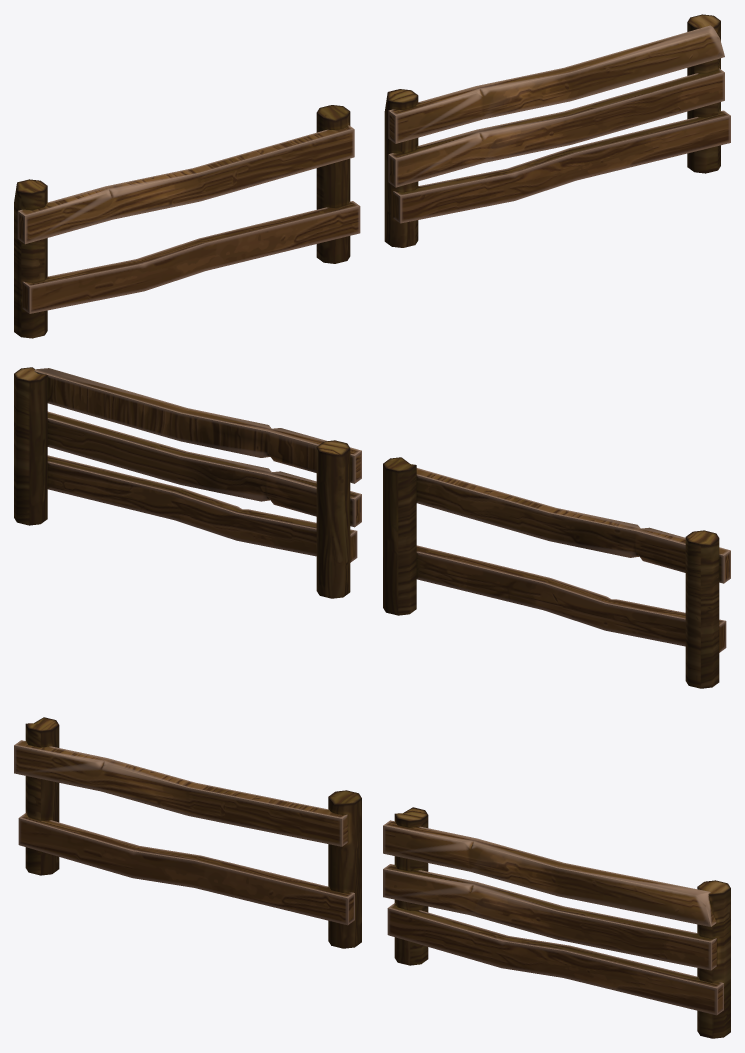
Rendered from Fence.fbx.
3 renders of one model, top to bottom at view 1: azimuth 30°, elevation 25°; view 2: azimuth 150°, elevation 25°; view 3: azimuth 330°, elevation 25°, orthographic.
Parts seen in each view (by area): view 1: Cube.023, Cube.006; view 2: Cube.023, Cube.006; view 3: Cube.023, Cube.006.
Part boxes in pixels (x1=…): Cube.023: x1=384, y1=14, x2=730, y2=247; Cube.006: x1=14, y1=105, x2=360, y2=338; Cube.023: x1=14, y1=367, x2=361, y2=598; Cube.006: x1=383, y1=457, x2=730, y2=688; Cube.023: x1=383, y1=807, x2=730, y2=1038; Cube.006: x1=14, y1=717, x2=361, y2=948.
Bounding box in the file's own units: 717 × 141 × 34.76.
Materials: 1 (1 with a texture image).
